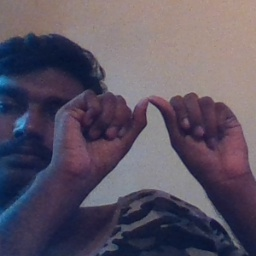A: (78, 78, 229, 172)
